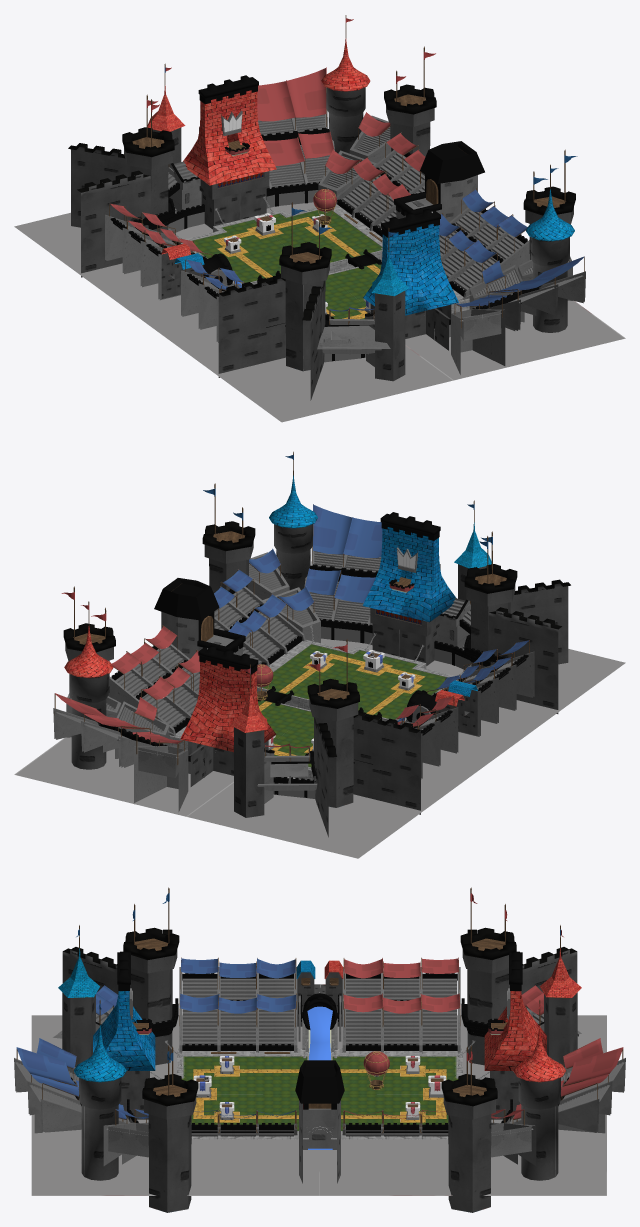
3 views of the same model, one above another, from view 1: azimuth 30°, elevation 25°; view 2: azimuth 150°, elevation 25°; view 3: azimuth 270°, elevation 25° (orthographic). The views are drawn at different scales.
Visible parts, largest first — view 1: MAPA3, MAPA2, MAPA1; view 2: MAPA3, MAPA2, MAPA1; view 3: MAPA3, MAPA2, MAPA1.
Boxes of the visible parts, left/top/right/bottom form: MAPA3: left=68, top=15, right=577, bottom=400; MAPA2: left=105, top=67, right=585, bottom=374; MAPA1: left=14, top=188, right=625, bottom=422; MAPA3: left=61, top=451, right=570, bottom=837; MAPA2: left=53, top=504, right=534, bottom=811; MAPA1: left=14, top=625, right=625, bottom=858; MAPA3: left=58, top=887, right=581, bottom=1212; MAPA2: left=14, top=951, right=625, bottom=1183; MAPA1: left=31, top=1006, right=606, bottom=1195.
Size of the model in its own units: 3491 by 1644 by 4784.
Materials: 3 (3 with a texture image).
